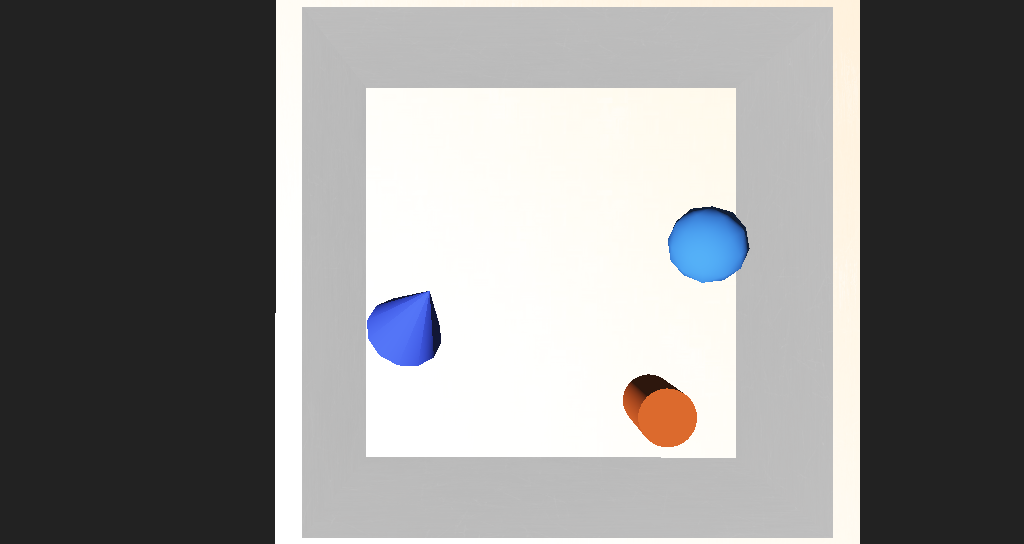cone: (566, 327, 620, 370)
cylinder: (337, 253, 445, 329)
sphere: (603, 231, 664, 274)
